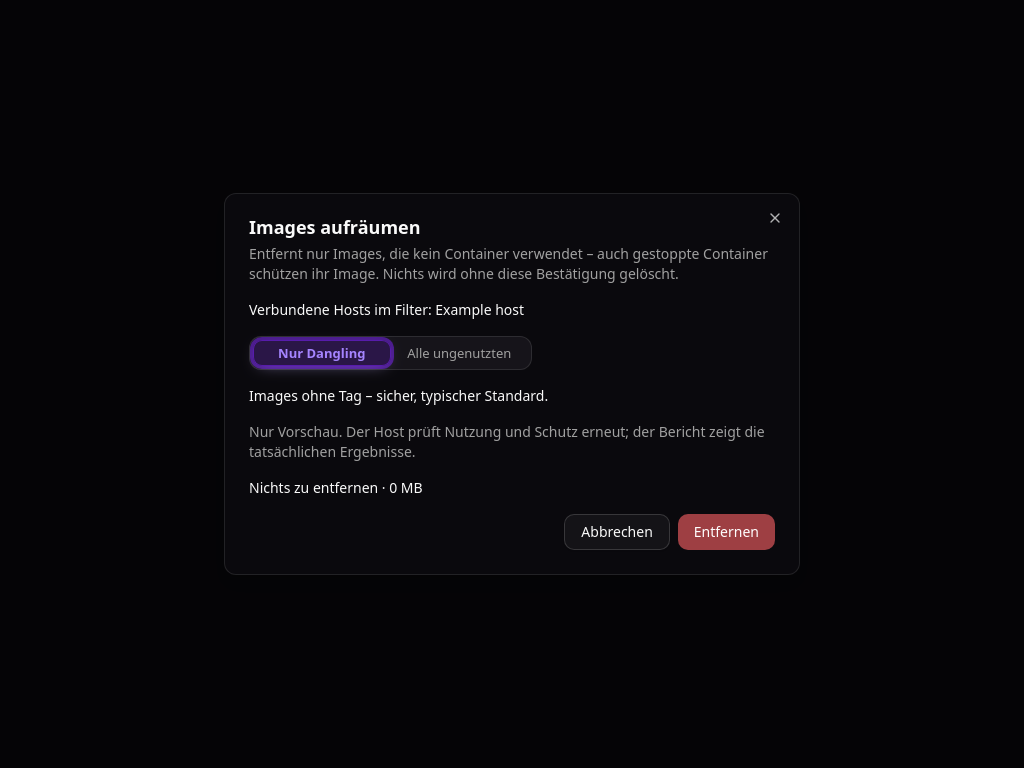
it: shows unknown host cleanup outcomes without claiming zero removed or failed images
Click the button "Entfernen" at (726, 532), box [678, 514, 775, 550]
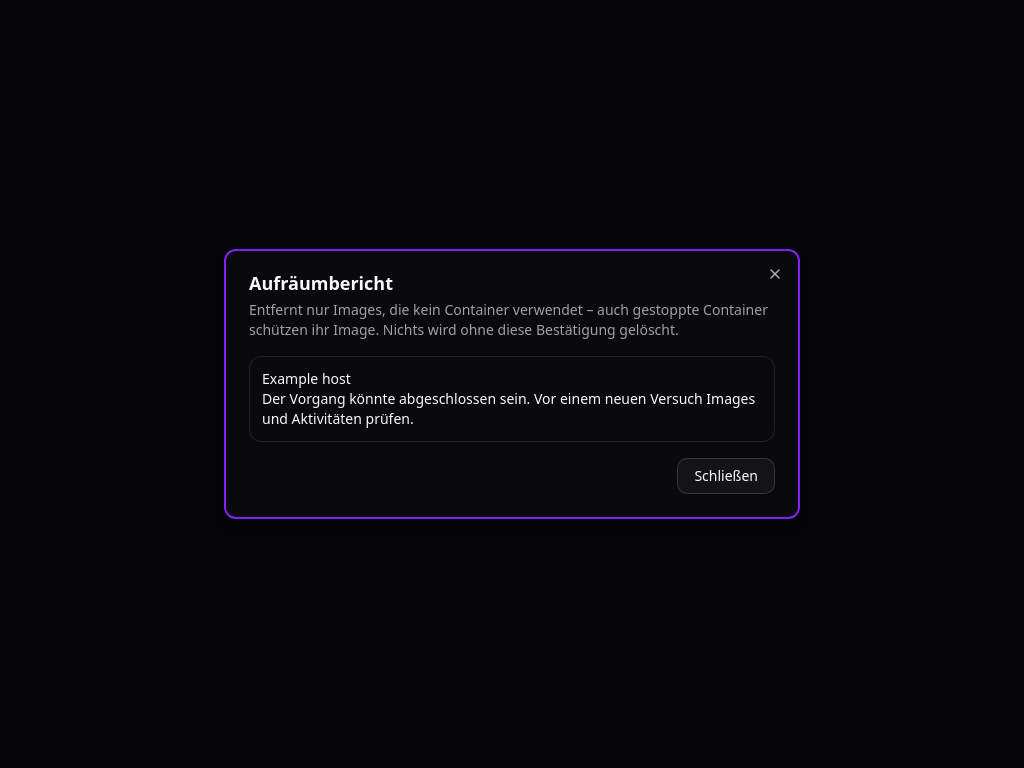
Expected: the heading "Aufräumbericht" is shown, [249, 271, 393, 295]
Expected: the message shows "Der Vorgang könnte abgeschlossen sein. Vor einem neuen Versuch Images und Aktivitäten prüfen.", [262, 389, 755, 428]
